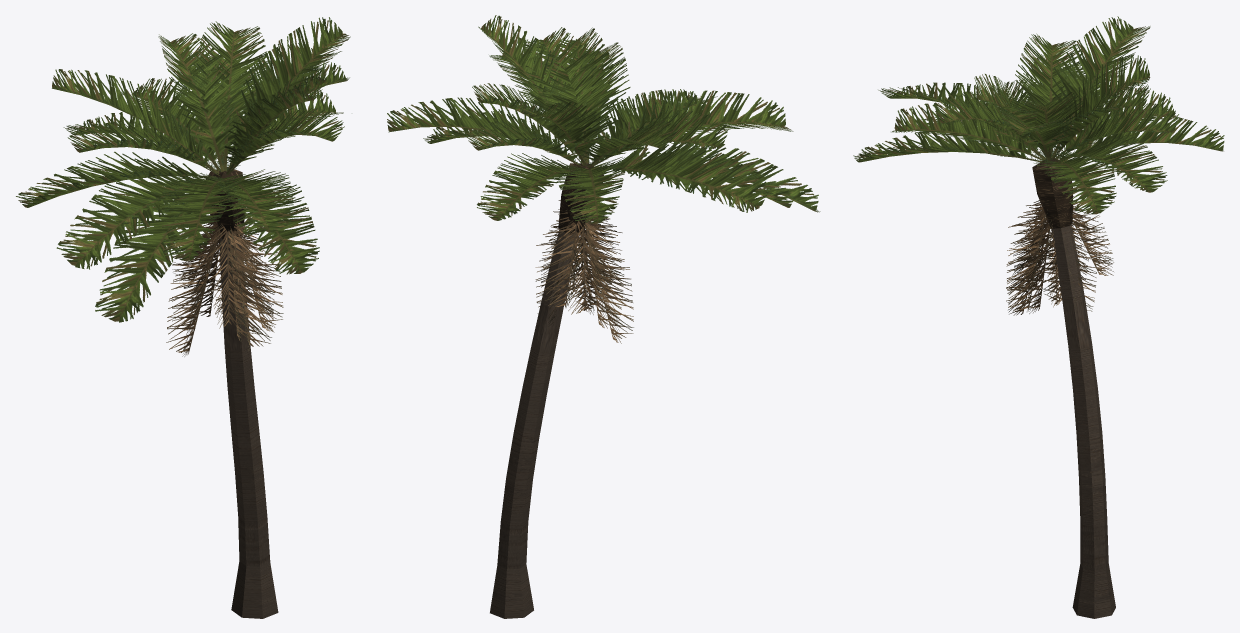
The model's file is plant_palm_date_b_v5.glb.
3 renders of one model, left to right at view 1: azimuth 30°, elevation 25°; view 2: azimuth 150°, elevation 25°; view 3: azimuth 270°, elevation 25°, orthographic. The views are drawn at different scales.
Parts seen in each view (by area): view 1: plant_palm_date_b_v5; view 2: plant_palm_date_b_v5; view 3: plant_palm_date_b_v5.
Boxes of the visible parts, <box> form: plant_palm_date_b_v5: <box>16,17,350,618</box>; plant_palm_date_b_v5: <box>387,15,820,618</box>; plant_palm_date_b_v5: <box>853,16,1224,618</box>.
Bounding box in the file's own units: 5.46 × 8.58 × 5.37.
Materials: 1 (1 with a texture image).
